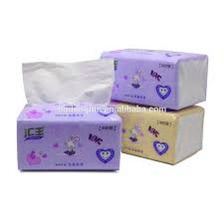tissue: (10, 98, 126, 176), (92, 96, 209, 168), (95, 43, 212, 114), (17, 54, 118, 110)
